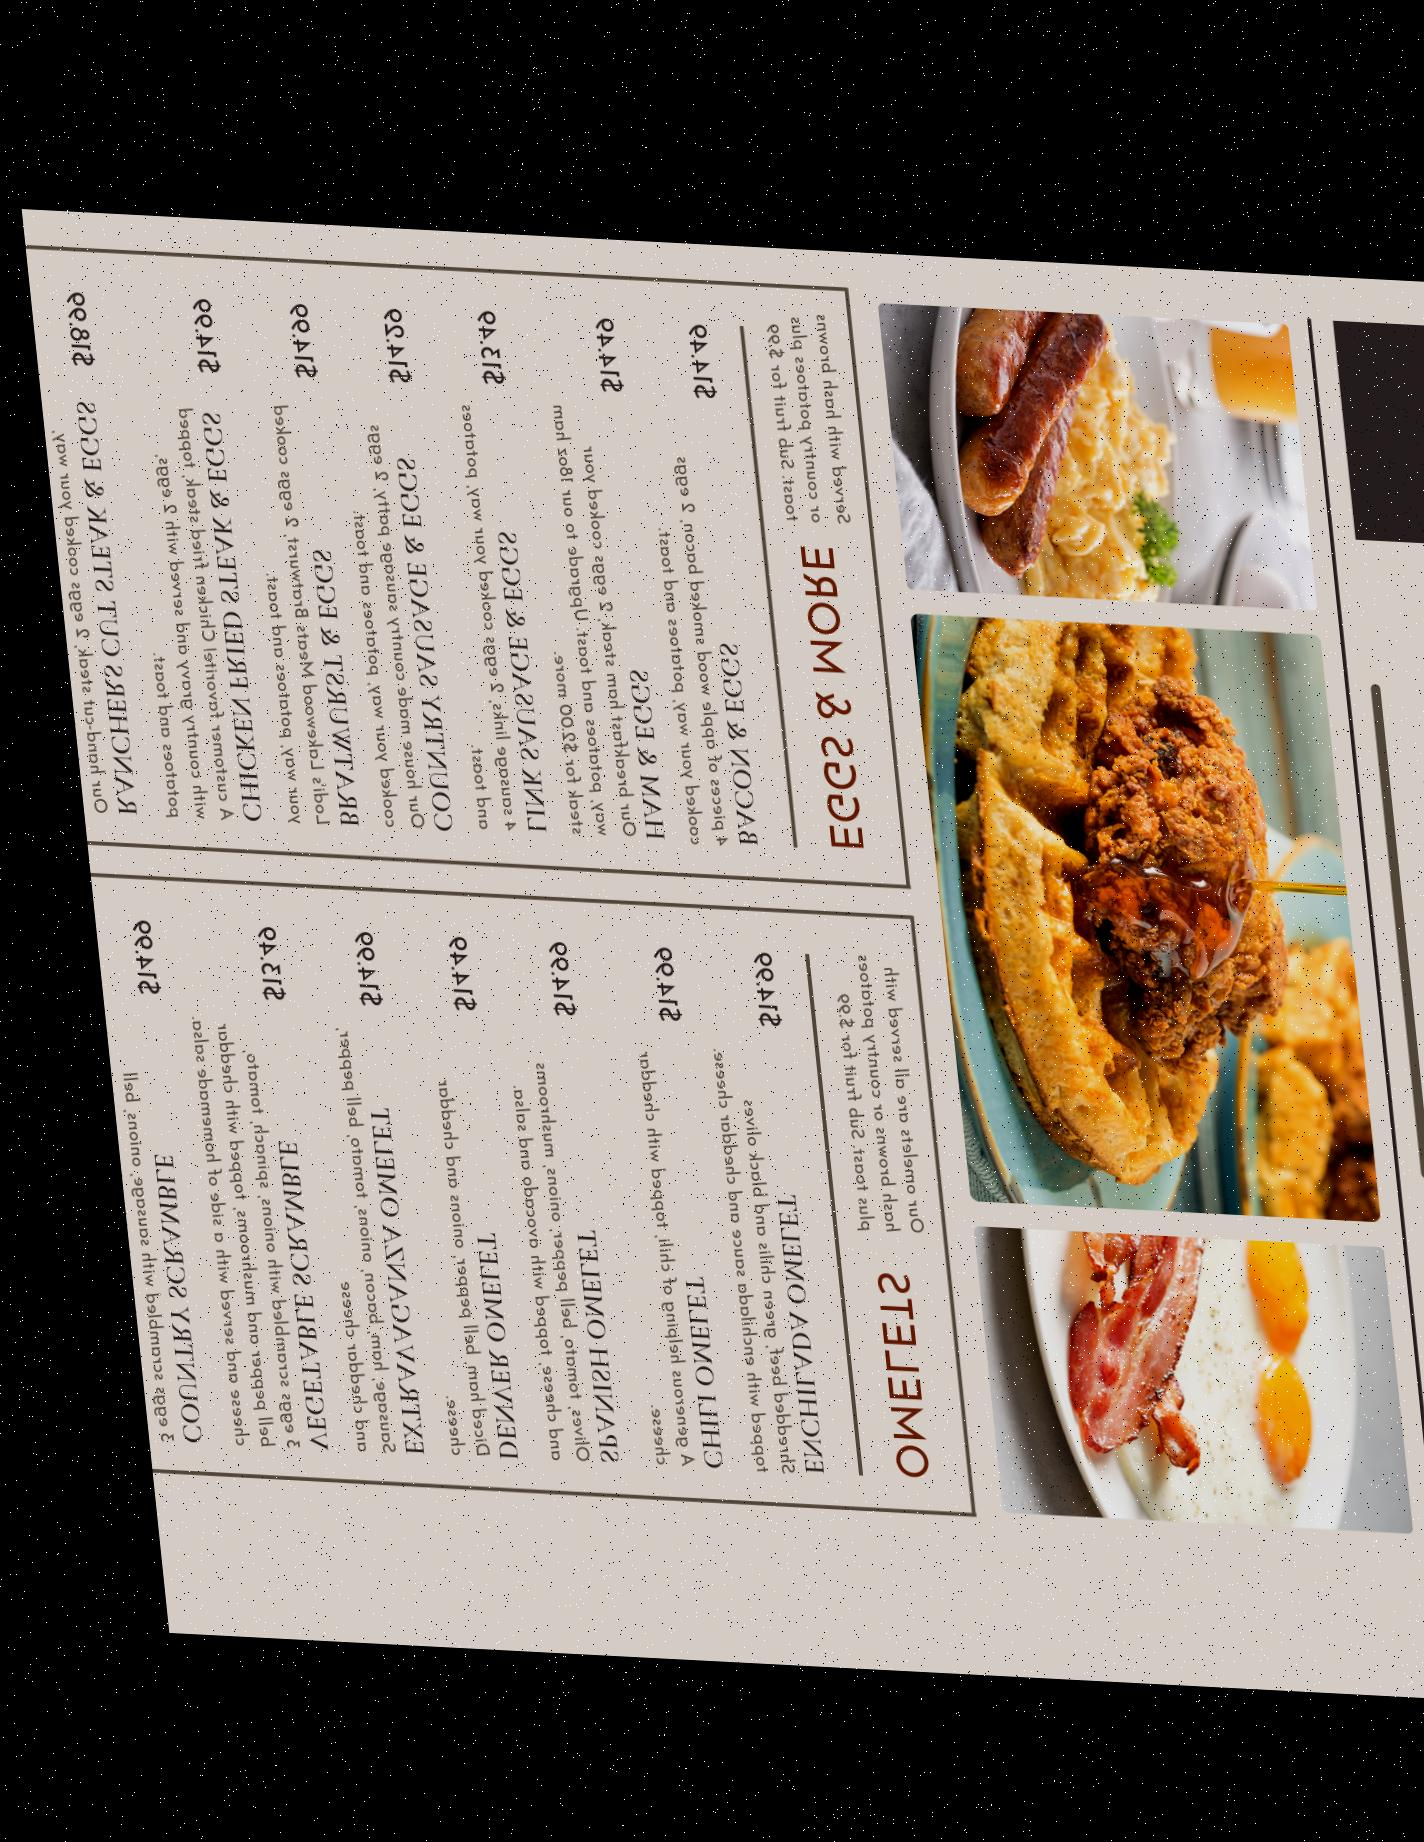Menu-Items: (94, 269, 257, 836), (144, 909, 305, 1462), (507, 289, 654, 842), (220, 278, 353, 836), (408, 296, 544, 839), (468, 925, 604, 1465), (316, 284, 447, 840), (577, 925, 709, 1476), (678, 922, 806, 1479), (624, 287, 748, 849), (275, 922, 398, 1461), (378, 924, 498, 1468), (22, 272, 136, 831), (73, 902, 178, 1459)
